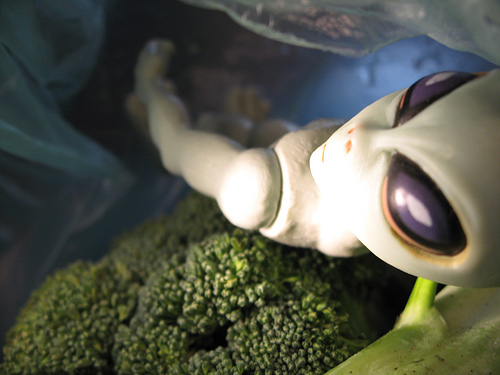broccoli: (0, 191, 376, 373)
